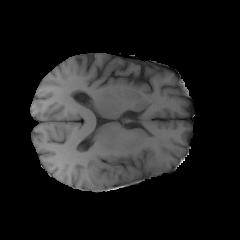glioma: (131, 140, 171, 173)
